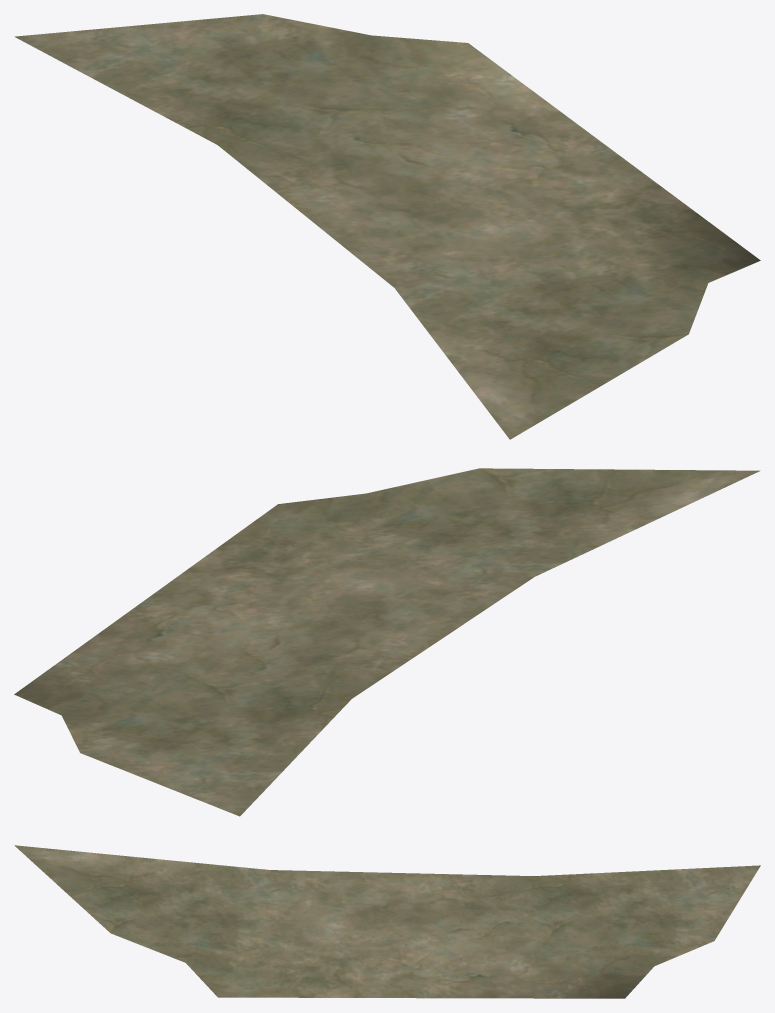
The model's file is OVERHILL_A_01_LINE136.fbx.
3 renders of one model, top to bottom at view 1: azimuth 30°, elevation 25°; view 2: azimuth 150°, elevation 25°; view 3: azimuth 270°, elevation 25°, orthographic. The views are drawn at different scales.
Visible parts, largest first — view 1: OVERHILL_A_01_LINE136; view 2: OVERHILL_A_01_LINE136; view 3: OVERHILL_A_01_LINE136.
Boxes of the visible parts, <box> form: OVERHILL_A_01_LINE136: <box>14,14,760,439</box>; OVERHILL_A_01_LINE136: <box>14,468,760,816</box>; OVERHILL_A_01_LINE136: <box>14,845,760,998</box>.
Bounding box in the file's own units: 14593 × 927 × 34100.
Materials: 1 (1 with a texture image).
